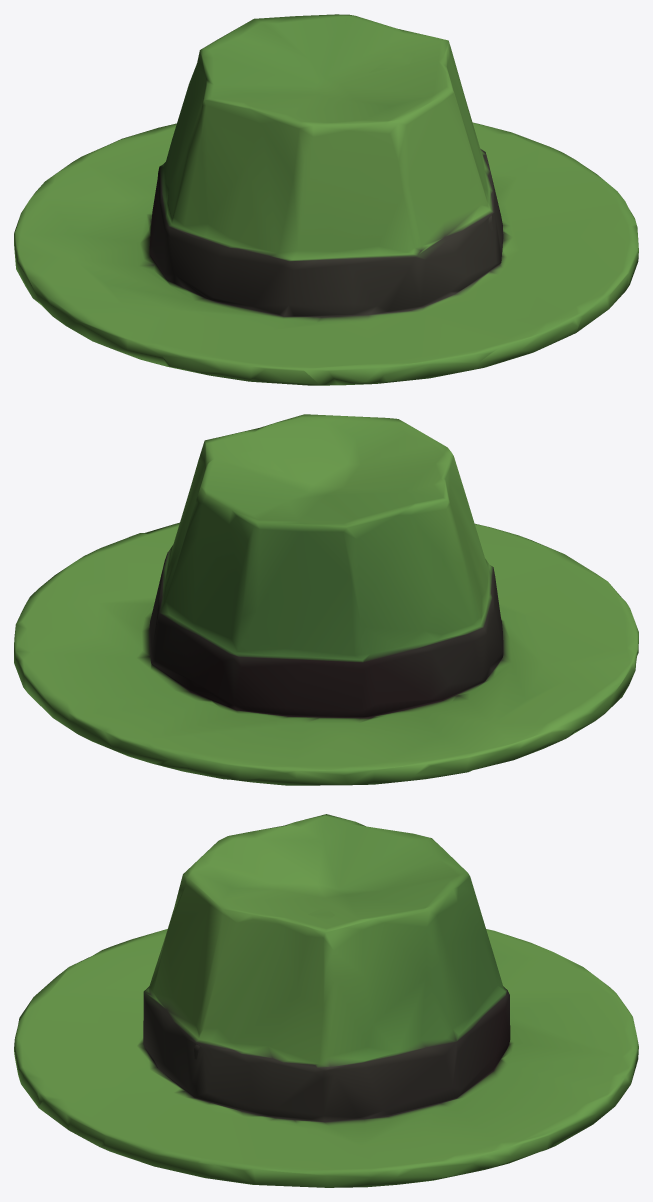
File: gen3d-hat-lod0.glb
The picture shows the model from 3 angles, top to bottom: view 1: azimuth 30°, elevation 25°; view 2: azimuth 150°, elevation 25°; view 3: azimuth 270°, elevation 25°; orthographic projection.
Visible parts, largest first — view 1: part_0; view 2: part_0; view 3: part_0.
Part boxes in pixels (x1,y1,x2,y2): part_0: [14, 14, 638, 385]; part_0: [14, 414, 638, 785]; part_0: [14, 814, 638, 1187].
Size of the model in its own units: 3.05 by 1 by 3.05.
